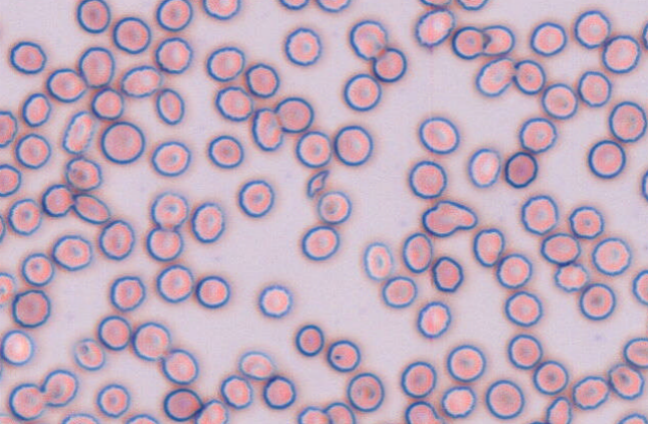RBC: (100, 120, 145, 164), (475, 56, 515, 97), (608, 100, 647, 142), (333, 124, 372, 166), (484, 379, 524, 419), (591, 236, 631, 276), (414, 8, 455, 47), (348, 19, 387, 60), (520, 194, 559, 235), (77, 46, 115, 88), (132, 321, 171, 361), (408, 159, 447, 199), (601, 34, 641, 73), (155, 263, 194, 303), (346, 371, 384, 412), (418, 116, 459, 154), (11, 288, 50, 327), (587, 139, 626, 178), (446, 343, 485, 382), (98, 219, 135, 260), (51, 234, 92, 271), (61, 110, 95, 154), (39, 368, 78, 406), (112, 16, 151, 54), (274, 96, 314, 133), (284, 26, 321, 66), (190, 201, 225, 243), (150, 191, 188, 229), (154, 36, 192, 74), (343, 73, 381, 111), (578, 282, 616, 320), (518, 116, 557, 153), (573, 9, 610, 48), (503, 290, 542, 327), (205, 45, 245, 81), (120, 64, 163, 97), (251, 107, 283, 151), (8, 382, 45, 420), (607, 362, 644, 400), (160, 348, 198, 385), (237, 179, 274, 217), (214, 85, 253, 121), (151, 140, 190, 176), (46, 67, 86, 102), (541, 82, 578, 119), (64, 155, 102, 191), (400, 360, 436, 398), (295, 130, 331, 168), (162, 387, 202, 421), (467, 147, 501, 187), (539, 232, 580, 265), (401, 231, 433, 273), (495, 252, 532, 288), (15, 132, 51, 169), (145, 226, 183, 261), (416, 300, 451, 338), (571, 375, 609, 410), (301, 225, 339, 260), (529, 21, 567, 56), (532, 359, 568, 395), (109, 275, 145, 311), (7, 198, 42, 235), (504, 150, 538, 188), (472, 227, 504, 267), (372, 46, 407, 82), (244, 62, 279, 98), (507, 333, 542, 369), (9, 40, 46, 74), (577, 70, 611, 107), (362, 241, 394, 280), (316, 189, 351, 224), (257, 283, 292, 318), (0, 329, 34, 365), (97, 314, 131, 350), (568, 205, 604, 239), (207, 134, 243, 168), (430, 255, 463, 292), (72, 192, 110, 224), (219, 374, 253, 409), (96, 383, 130, 418), (195, 274, 230, 308), (440, 385, 476, 418), (512, 58, 545, 94), (381, 275, 417, 308), (451, 25, 485, 59), (262, 375, 296, 409), (75, 0, 110, 33), (155, 0, 192, 31), (154, 87, 184, 125), (90, 87, 124, 120), (21, 252, 54, 286), (326, 339, 360, 372), (41, 183, 73, 217), (553, 262, 589, 292), (238, 350, 274, 380), (73, 337, 105, 370), (481, 24, 514, 56), (21, 92, 51, 127), (294, 323, 324, 356), (194, 398, 229, 423), (404, 400, 441, 423), (622, 336, 647, 368), (202, 0, 240, 20), (545, 396, 572, 423), (323, 401, 356, 423), (0, 163, 21, 196), (0, 109, 18, 147), (296, 405, 329, 423), (631, 268, 647, 305), (0, 271, 16, 305), (315, 0, 351, 12), (60, 412, 99, 423), (456, 0, 489, 11), (615, 412, 647, 423), (124, 413, 159, 423), (278, 0, 309, 10), (418, 0, 452, 8), (641, 168, 648, 201), (641, 20, 648, 50), (0, 212, 6, 243), (0, 413, 18, 423), (526, 419, 549, 424)
Schistocyte: (422, 199, 478, 235), (306, 169, 329, 198)
